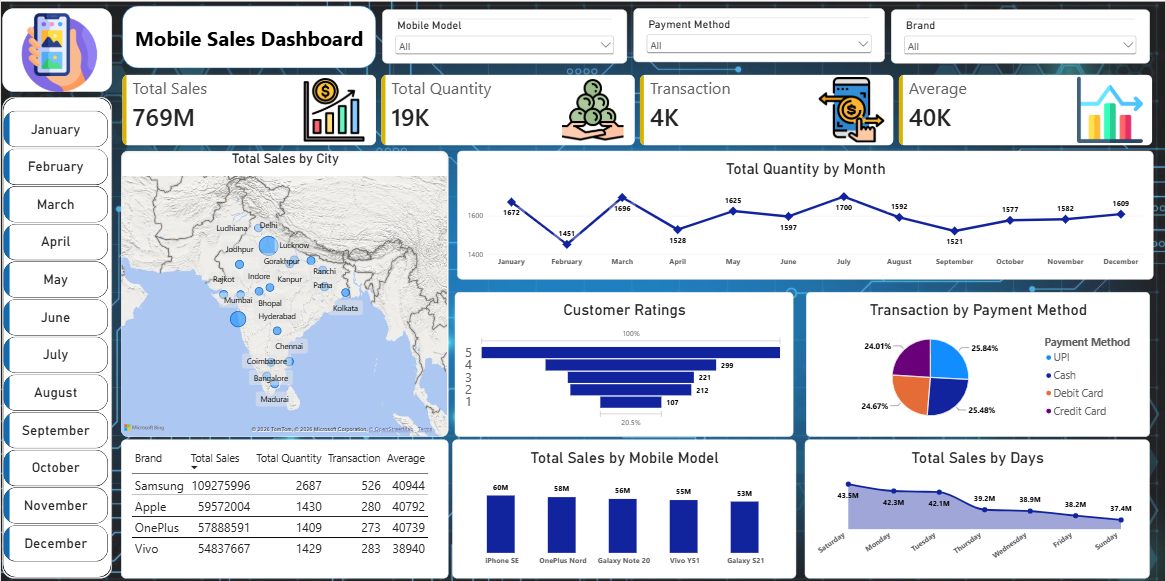

What the dashboard file says about the page in this screenshot:
{"tool":"powerbi","page":{"name":"Page 1","canvas":[1920,1080],"ordinal":0},"visuals":[{"type":"shape","box":[2.1,67.9,181.1,137.9],"z":0},{"type":"shape","box":[2.1,214.1,181.1,792.5],"z":1000},{"type":"advancedSlicerVisual","fields":{"Values":["Sales_Data.Date.Variation.Date Hierarchy.Month"]},"box":[4.1,236.7,172.9,769.8],"z":2000},{"type":"cardVisual","fields":{"Data":["Sales_Data.Total Sales","Sales_Data.Total Quantity","Sales_Data.Transaction","Sales_Data.Average"]},"box":[199.7,166.7,1698.1,137.9],"z":3000},{"type":"map","fields":{"Category":["Sales_Data.City"],"Size":["Sales_Data.Total Sales"]},"box":[197.6,302.6,539.3,471.4],"z":4000},{"type":"lineChart","fields":{"Category":["Sales_Data.Date.Variation.Date Hierarchy.Month","Sales_Data.Date.Variation.Date Hierarchy.Day"],"Y":["Sales_Data.Total Quantity"]},"box":[751.3,302.6,1146.5,212],"z":5000},{"type":"columnChart","fields":{"Category":["Sales_Data.Mobile Model"],"Y":["Sales_Data.Total Sales"]},"box":[743.1,778,566,228.5],"z":6000},{"type":"pieChart","fields":{"Category":["Sales_Data.Payment Method"],"Y":["Sales_Data.Transaction"]},"box":[1325.6,535.2,566,238.8],"z":7000},{"type":"funnel","title":"Customer Ratings","fields":{"Category":["Sales_Data.Customer Ratings"],"Y":["CountNonNull(Sales_Data.Customer Ratings)"]},"box":[747.2,535.2,557.8,238.8],"z":8000},{"type":"areaChart","title":"Total Sales by Days","fields":{"Category":["Sales_Data.Day Name"],"Y":["Sales_Data.Total Sales"]},"box":[1323.5,778,568.1,228.5],"z":9000},{"type":"tableEx","fields":{"Values":["Sales_Data.Brand","Sales_Data.Total Sales","Sales_Data.Total Quantity","Sales_Data.Transaction","Sales_Data.Average"]},"box":[197.6,778,539.3,228.5],"z":10000},{"type":"slicer","fields":{"Values":["Sales_Data.Mobile Model"]},"box":[627.8,70,403.4,88.5],"z":11000},{"type":"image","box":[14.4,76.2,162.6,129.7],"z":12000},{"type":"shape","box":[199.7,63.8,417.8,102.9],"z":13000},{"type":"slicer","fields":{"Values":["Sales_Data.Payment Method"]},"box":[1041.5,67.9,413.7,88.5],"z":14000},{"type":"slicer","fields":{"Values":["Sales_Data.Brand"]},"box":[1465.5,70,426.1,88.5],"z":15000}]}

Visuals, with their boxes on the page's 1920x1080 design canvas (x1, y1, x2, y2). These are canvas units, not pixel positions in the 1165x581 screenshot, which may show the page scaled, cropped or inside an application window:
shape: crop(2, 68, 183, 206)
shape: crop(2, 214, 183, 1007)
advancedSlicerVisual - Sales_Data.Date.Variation.Date Hierarchy.Month: crop(4, 237, 177, 1006)
cardVisual - Sales_Data.Total Sales x Sales_Data.Total Quantity: crop(200, 167, 1898, 305)
map - Sales_Data.City x Sales_Data.Total Sales: crop(198, 303, 737, 774)
lineChart - Sales_Data.Date.Variation.Date Hierarchy.Month x Sales_Data.Date.Variation.Date Hierarchy.Day: crop(751, 303, 1898, 515)
columnChart - Sales_Data.Mobile Model x Sales_Data.Total Sales: crop(743, 778, 1309, 1006)
pieChart - Sales_Data.Payment Method x Sales_Data.Transaction: crop(1326, 535, 1892, 774)
"Customer Ratings" funnel: crop(747, 535, 1305, 774)
"Total Sales by Days" areaChart: crop(1324, 778, 1892, 1006)
tableEx - Sales_Data.Brand x Sales_Data.Total Sales: crop(198, 778, 737, 1006)
slicer - Sales_Data.Mobile Model: crop(628, 70, 1031, 158)
image: crop(14, 76, 177, 206)
shape: crop(200, 64, 618, 167)
slicer - Sales_Data.Payment Method: crop(1042, 68, 1455, 156)
slicer - Sales_Data.Brand: crop(1466, 70, 1892, 158)
